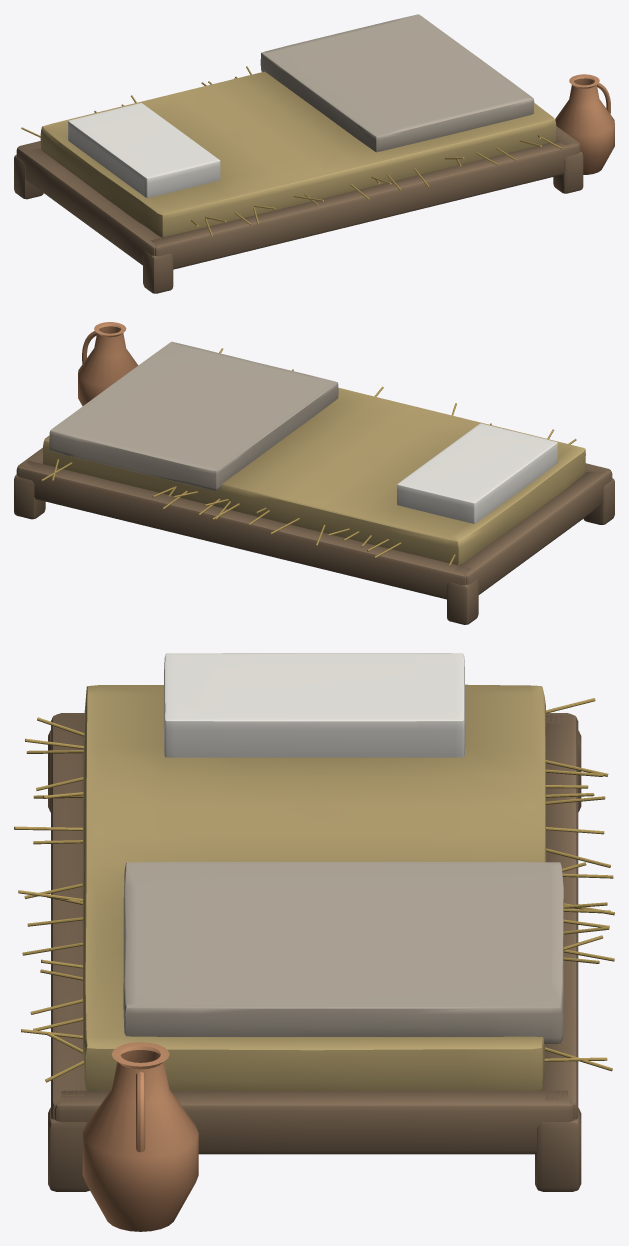
File: obj_kit_cot.glb
The picture shows the model from 3 angles, top to bottom: view 1: azimuth 30°, elevation 25°; view 2: azimuth 150°, elevation 25°; view 3: azimuth 270°, elevation 25°; orthographic projection. The views are drawn at different scales.
Visible parts, largest first — view 1: Cube.008, Cube.009, Cube, Cube.010, Cube.002, jug, Cube.004, Cube.006, Cube.005; view 2: Cube.008, Cube.009, Cube.001, Cube.010, Cube.002, jug, Cube.005, Cube.007, Cube.004; view 3: Cube.008, Cube.009, Cube.010, Cube.003, jug, Cube, Cube.001, Cube.007, Cube.006, jh.
Part boxes in pixels (bbox=[...]): Cube.008: bbox=[40, 71, 556, 237]; Cube.009: bbox=[260, 14, 534, 152]; Cube: bbox=[150, 140, 579, 269]; Cube.010: bbox=[68, 103, 220, 197]; Cube.002: bbox=[16, 146, 164, 265]; jug: bbox=[555, 74, 614, 174]; Cube.004: bbox=[143, 250, 173, 293]; Cube.006: bbox=[553, 151, 583, 193]; Cube.005: bbox=[14, 155, 43, 199]; Cube.008: bbox=[43, 387, 585, 565]; Cube.009: bbox=[49, 341, 338, 490]; Cube.001: bbox=[17, 460, 470, 599]; Cube.010: bbox=[397, 423, 557, 523]; Cube.002: bbox=[454, 467, 612, 594]; jug: bbox=[78, 322, 138, 405]; Cube.005: bbox=[447, 579, 478, 624]; Cube.007: bbox=[14, 474, 45, 519]; Cube.004: bbox=[583, 478, 614, 524]; Cube.008: bbox=[82, 684, 546, 1090]; Cube.009: bbox=[123, 862, 563, 1043]; Cube.010: bbox=[163, 653, 465, 757]; Cube.003: bbox=[55, 1090, 573, 1154]; jug: bbox=[82, 1042, 198, 1231]; Cube: bbox=[51, 714, 87, 1119]; Cube.001: bbox=[541, 714, 578, 1119]; Cube.007: bbox=[535, 1108, 581, 1191]; Cube.006: bbox=[48, 1107, 89, 1191]; jh: bbox=[136, 1072, 145, 1152].
Bounding box in the file's own units: 1.81 × 0.32 × 1.04.
